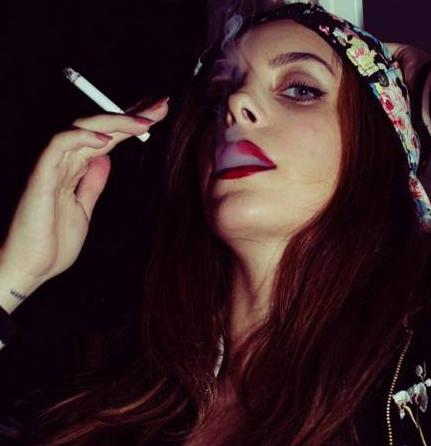smoke: (54, 64, 150, 146)
